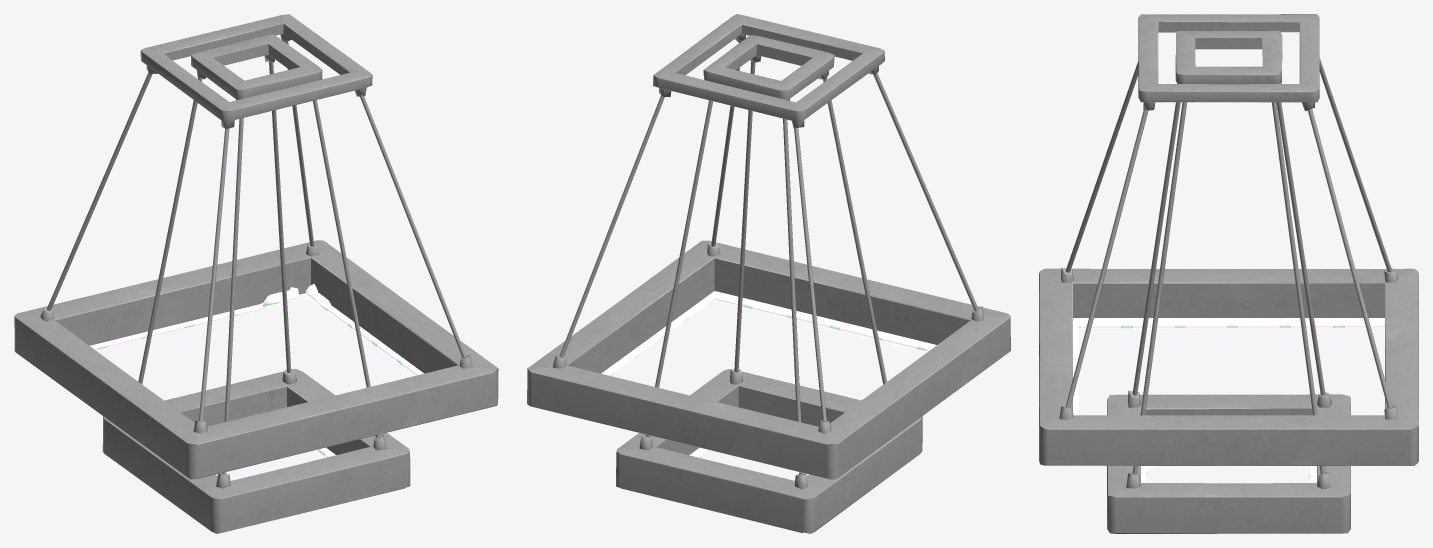
Rendered from SM_Roof_Light2.fbx.
3 renders of one model, left to right at view 1: azimuth 30°, elevation 25°; view 2: azimuth 150°, elevation 25°; view 3: azimuth 270°, elevation 25°, orthographic. The views are drawn at different scales.
Visible parts, largest first — view 1: SM_Roof_Light2_LOD0; view 2: SM_Roof_Light2_LOD0; view 3: SM_Roof_Light2_LOD0.
Boxes of the visible parts, x1,y1,x2,y2 form: SM_Roof_Light2_LOD0: [14, 14, 498, 533]; SM_Roof_Light2_LOD0: [527, 14, 1010, 533]; SM_Roof_Light2_LOD0: [1039, 14, 1418, 533].
Size of the model in its own units: 278 by 278 by 355.
2 materials, 1 textured.
